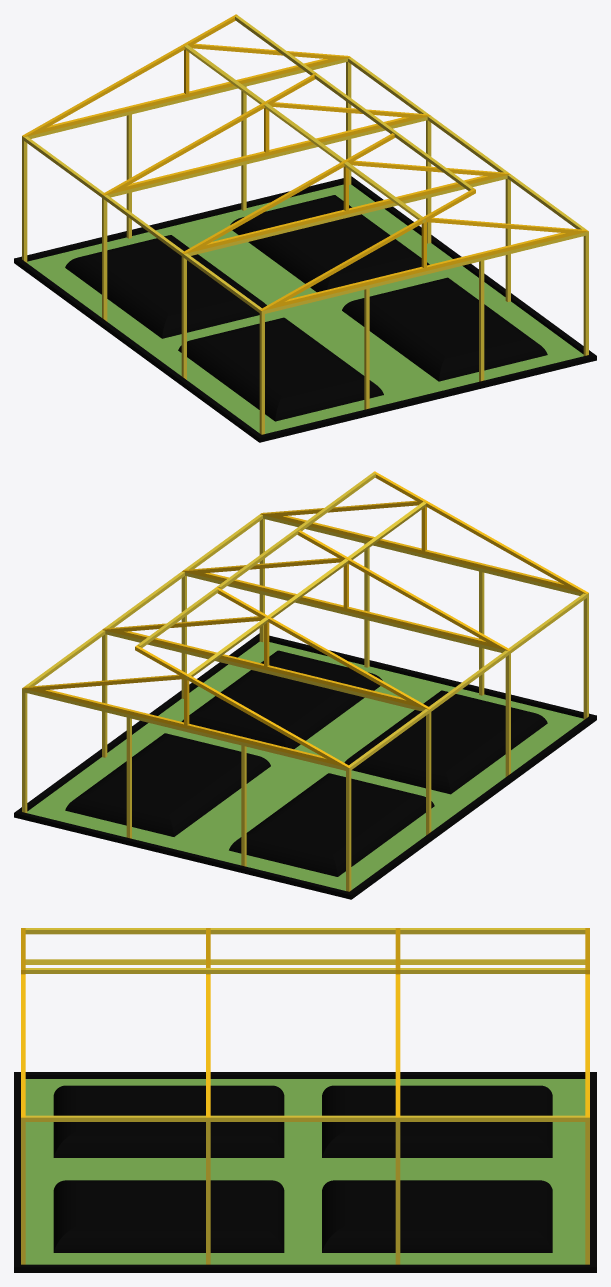
The model's file is PIPE.gltf.
3 renders of one model, top to bottom at view 1: azimuth 30°, elevation 25°; view 2: azimuth 150°, elevation 25°; view 3: azimuth 270°, elevation 25°, orthographic. The views are drawn at different scales.
Visible parts, largest first — view 1: Part 1.021, Part 1.018, Part 1.002, Part 1.022, Part 1.026, Part 1, Part 1.012, Part 1.007, Part 1.004, Part 1.011, Part 1.010, Part 1.025 (+13 smaller); view 2: Part 1.021, Part 1.022, Part 1.002, Part 1.018, Part 1.026, Part 1, Part 1.012, Part 1.007, Part 1.011, Part 1.010, Part 1.004, Part 1.025 (+13 smaller); view 3: Part 1.021, Part 1.012, Part 1, Part 1.007, Part 1.002, Part 1.001, Part 1.006, Part 1.014, Part 1.018, Part 1.022, Part 1.026, Part 1.019 (+3 smaller).
Part boxes in pixels (x1,y1,x2,y2): Part 1.021: (14, 176, 596, 442); Part 1.018: (260, 188, 588, 310); Part 1.002: (102, 73, 430, 195); Part 1.022: (22, 14, 350, 136); Part 1.026: (182, 133, 510, 253); Part 1: (22, 136, 264, 314); Part 1.012: (348, 57, 588, 235); Part 1.007: (184, 44, 425, 223); Part 1.004: (265, 232, 585, 313); Part 1.011: (27, 58, 347, 138); Part 1.010: (107, 116, 427, 197); Part 1.025: (187, 175, 507, 255); Part 1.021: (14, 633, 596, 899); Part 1.022: (22, 645, 350, 767); Part 1.002: (102, 587, 430, 709); Part 1.018: (260, 471, 588, 593); Part 1.026: (182, 530, 510, 650); Part 1: (346, 593, 588, 771); Part 1.012: (22, 514, 262, 692); Part 1.007: (185, 501, 426, 680); Part 1.011: (25, 689, 345, 770); Part 1.010: (105, 631, 425, 711); Part 1.004: (263, 515, 583, 595); Part 1.025: (185, 572, 505, 652); Part 1.021: (14, 1072, 596, 1272); Part 1.012: (21, 1115, 589, 1121); Part 1: (25, 928, 585, 934); Part 1.007: (25, 959, 585, 964); Part 1.002: (395, 928, 400, 1117); Part 1.001: (400, 968, 585, 973); Part 1.006: (210, 968, 395, 973); Part 1.014: (25, 968, 210, 973); Part 1.018: (21, 928, 25, 1117); Part 1.022: (585, 928, 589, 1117); Part 1.026: (206, 928, 210, 1117); Part 1.019: (395, 1122, 400, 1264).
Bounding box in the file's own units: 10 × 5.59 × 12.6.
